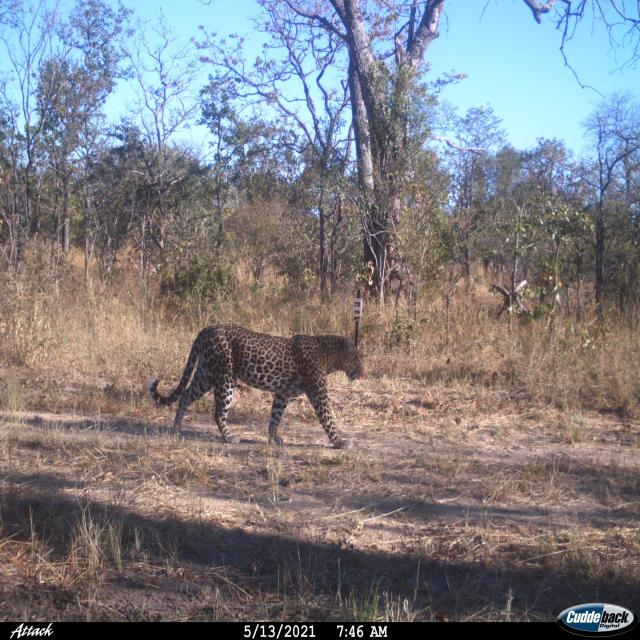Leopard: (147, 321, 375, 457)
